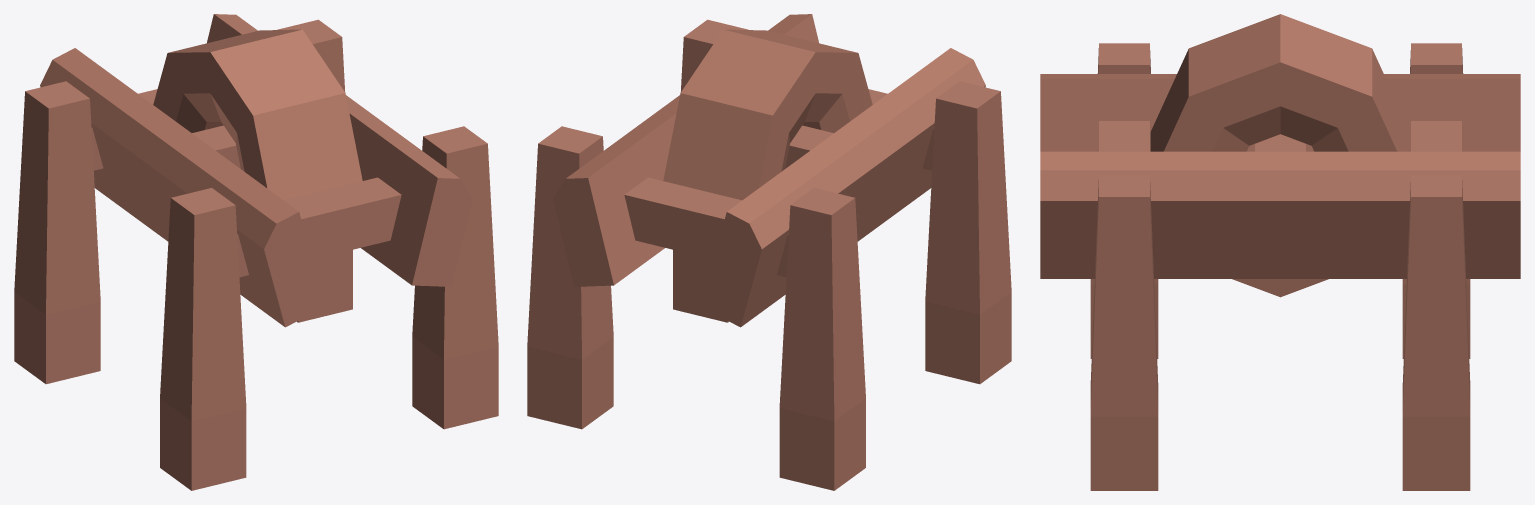
File: workbench-grind.obj
The picture shows the model from 3 angles, left to right: view 1: azimuth 30°, elevation 25°; view 2: azimuth 150°, elevation 25°; view 3: azimuth 270°, elevation 25°; orthographic projection. The views are drawn at different scales.
Size of the model in its own units: 0.2604 by 0.2817 by 0.329.
